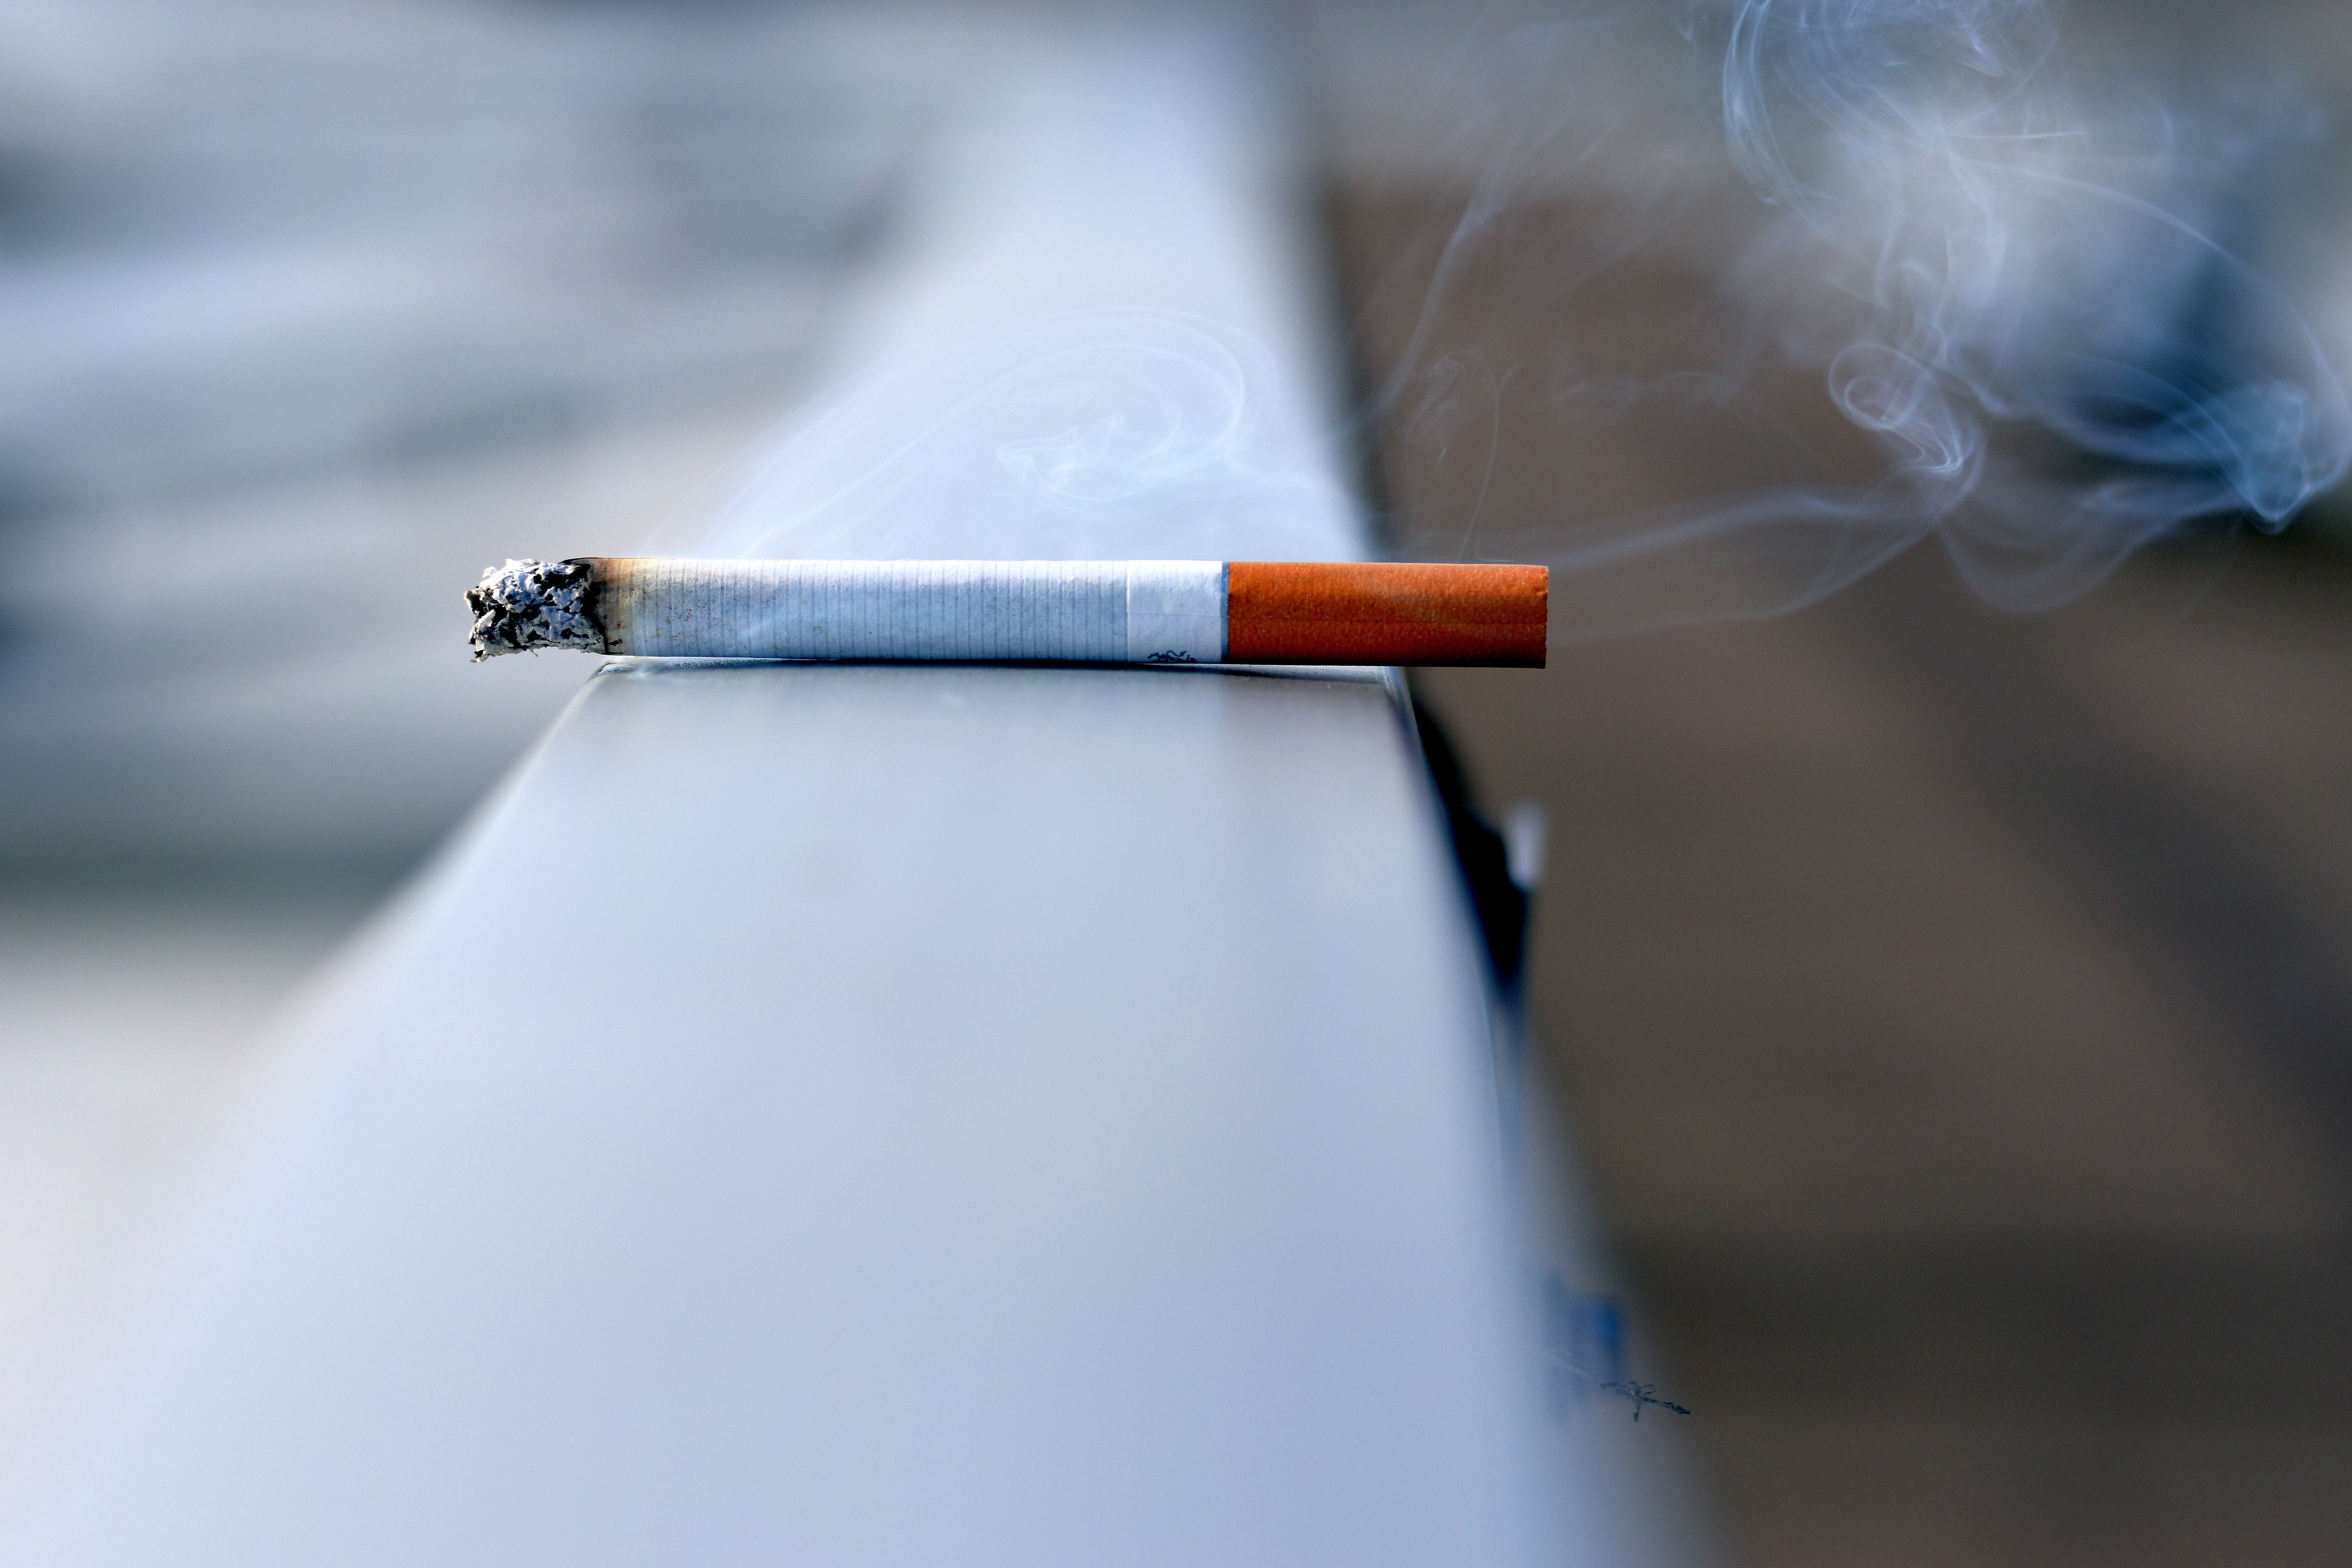cigarette: (457, 546, 1551, 667)
